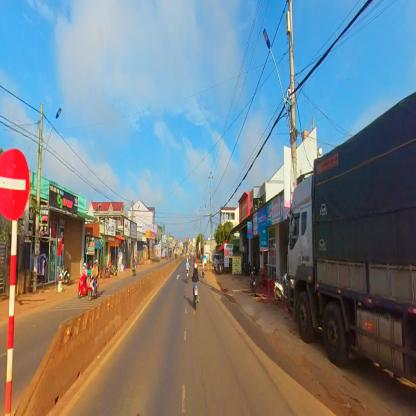Cam nguoc chieu: (0, 146, 31, 222), (0, 145, 30, 221), (0, 146, 30, 219), (1, 147, 30, 220), (0, 147, 29, 219)
